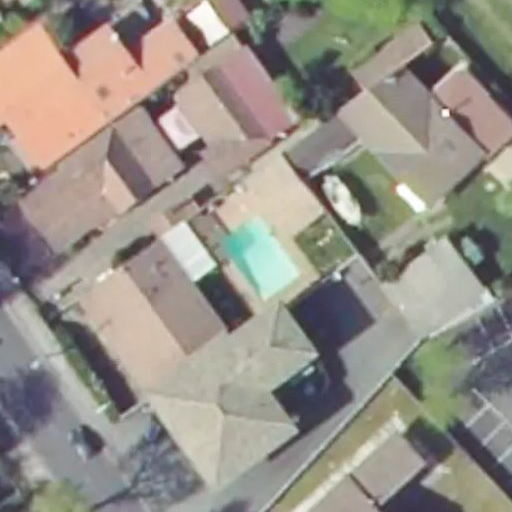pool: (222, 217, 301, 301)
